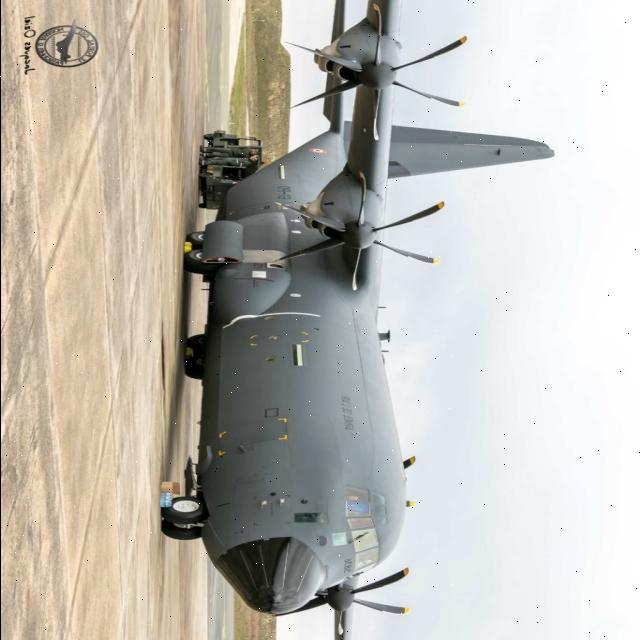C130: (113, 0, 576, 638)
